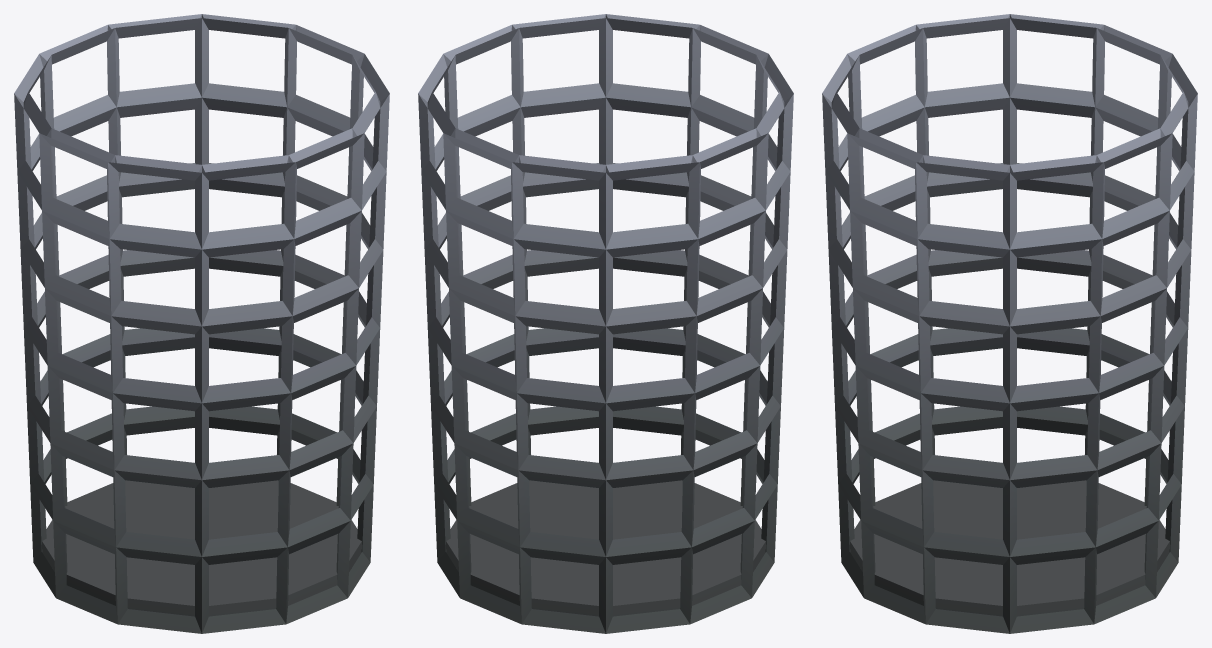
File: TrashCan.fbx
3 views of the same model, side by side, from view 1: azimuth 30°, elevation 25°; view 2: azimuth 150°, elevation 25°; view 3: azimuth 270°, elevation 25° (orthographic).
Visible parts, largest first — view 1: Circle.006; view 2: Circle.006; view 3: Circle.006.
Boxes of the visible parts, x1=… form: Circle.006: x1=14, y1=14, x2=389, y2=633; Circle.006: x1=418, y1=14, x2=793, y2=633; Circle.006: x1=822, y1=14, x2=1197, y2=633.
Size of the model in its own units: 72.56 by 100 by 72.56.
